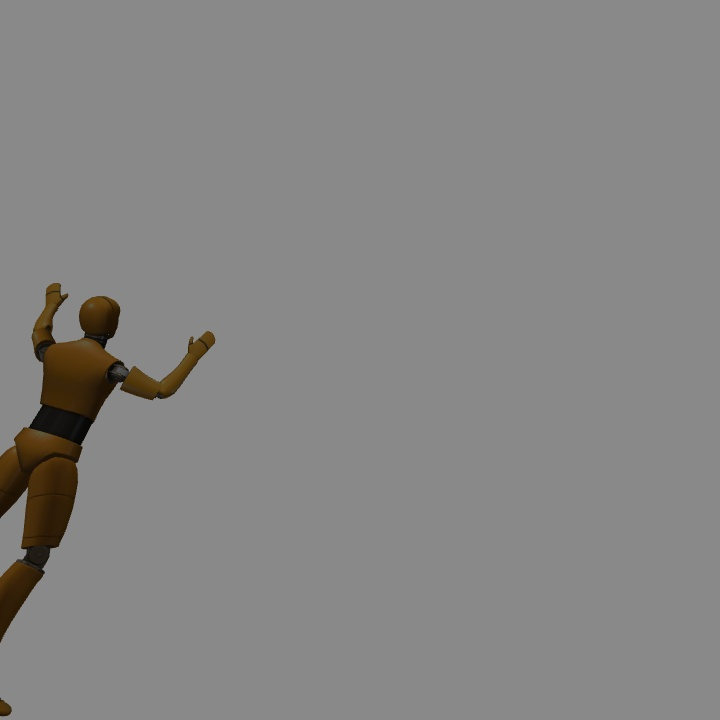victim: (1, 281, 122, 527)
